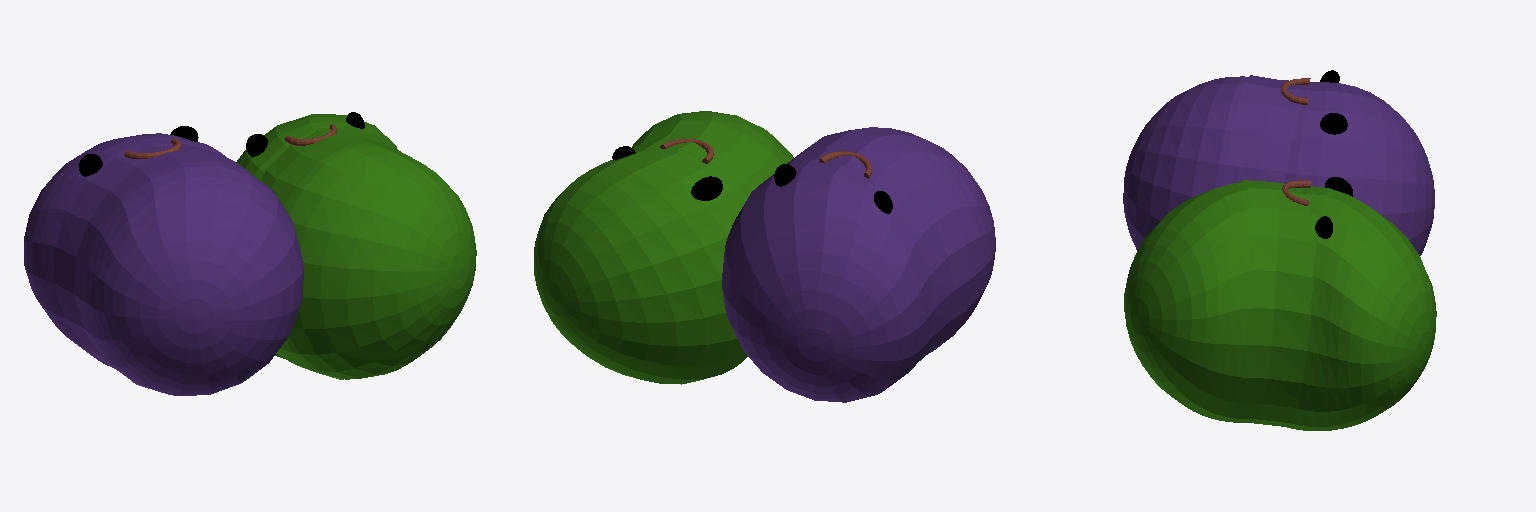
File: STATICFriends03.obj
The picture shows the model from 3 angles: view 1: azimuth 30°, elevation 25°; view 2: azimuth 150°, elevation 25°; view 3: azimuth 270°, elevation 25°; orthographic projection.
Parts seen in each view (by area): view 1: polySurface13; view 2: polySurface13; view 3: polySurface13.
Boxes of the visible parts, x1,y1,x2,y2 form: polySurface13: [24, 112, 476, 395]; polySurface13: [534, 111, 995, 402]; polySurface13: [1123, 70, 1436, 430].
Size of the model in its own units: 8.28 by 5.4 by 5.97.